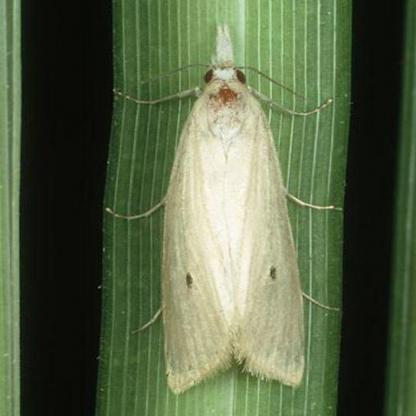stem-borer: (129, 19, 328, 396)
